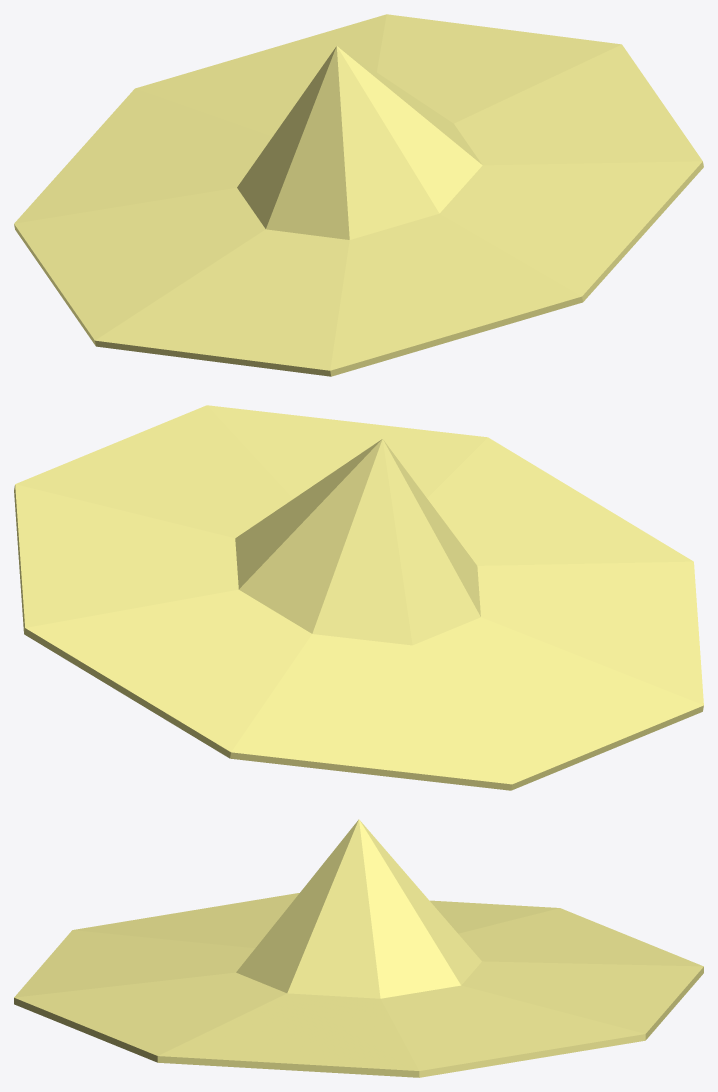
3 renders of one model, top to bottom at view 1: azimuth 30°, elevation 25°; view 2: azimuth 150°, elevation 25°; view 3: azimuth 270°, elevation 25°, orthographic. The views are drawn at different scales.
Parts seen in each view (by area): view 1: 柱体.001; view 2: 柱体.001; view 3: 柱体.001.
Boxes of the visible parts, x1,y1,x2,y2 form: 柱体.001: (14, 14, 703, 376); 柱体.001: (14, 405, 703, 790); 柱体.001: (14, 819, 703, 1077).
Size of the model in its own units: 80.75 by 27.88 by 81.86.
